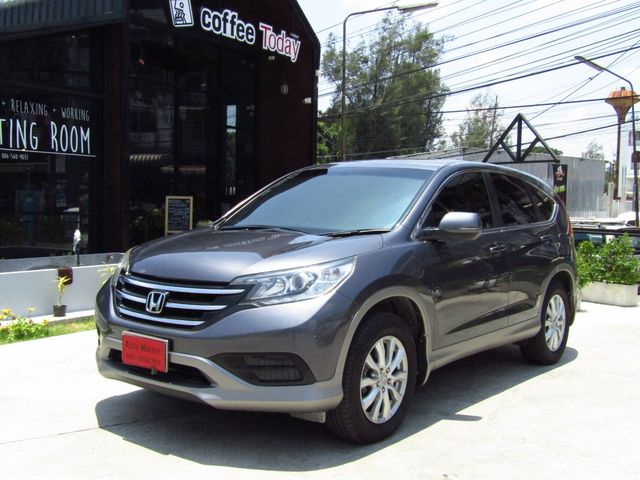pickup: (93, 157, 581, 445)
